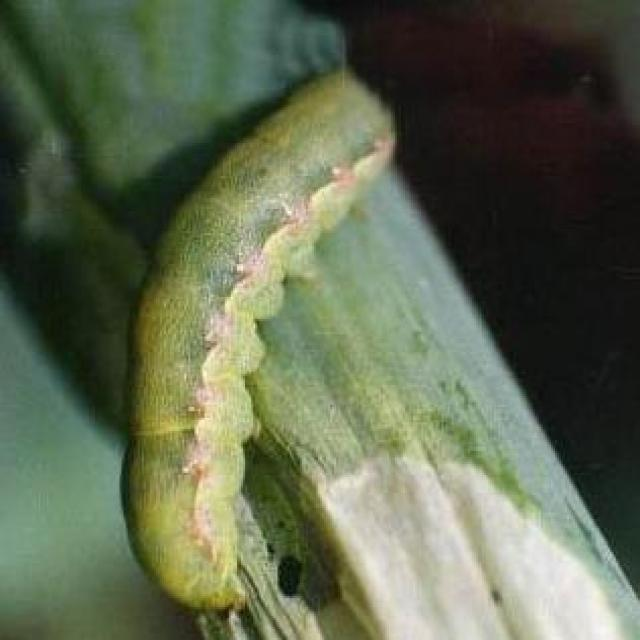BeetArmyWorm-Larva-: (106, 59, 408, 616)
